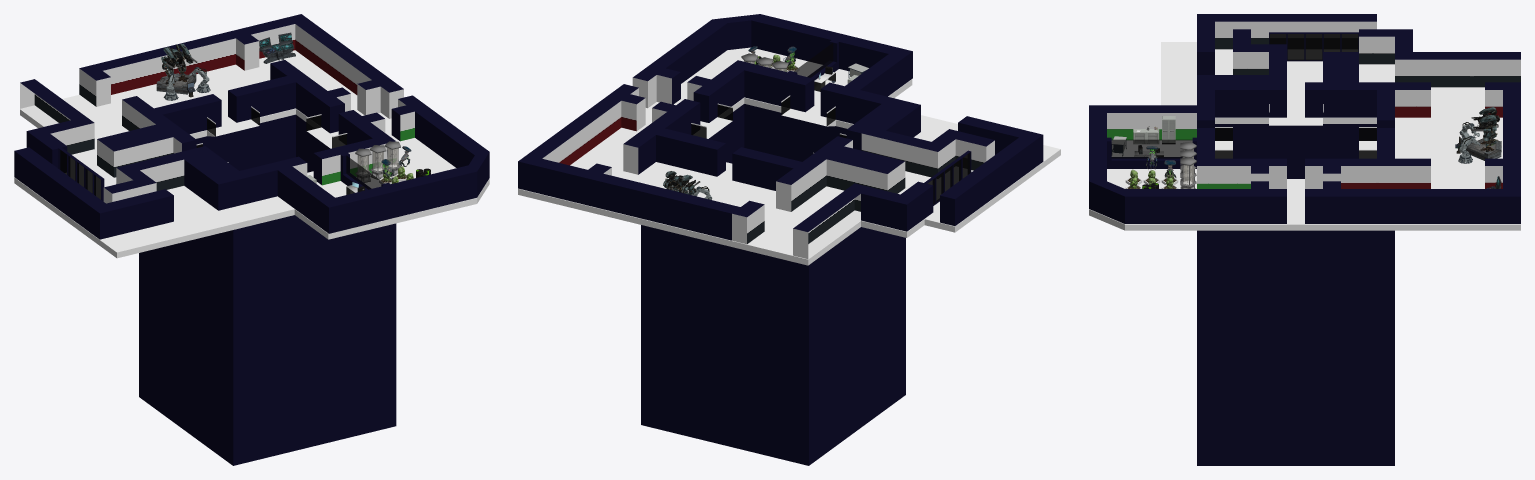
File: level4.glb
3 renders of one model, left to right at view 1: azimuth 30°, elevation 25°; view 2: azimuth 150°, elevation 25°; view 3: azimuth 270°, elevation 25°, orthographic. The views are drawn at different scales.
Parts seen in each view (by area): view 1: Cube.033, Floor, Cube.031, Cube.027, Cube.015, Cube.016, Cube.021, Cube.013, Cube.005, Cube.002, Cube.007, Cube.009 (+15 smaller); view 2: Cube.016, Cube.031, Floor, Cube.027, Cube.015, Cube.002, Cube.013, Cube.033, Cube.005, Cube.021, Cube.009, Cube.028 (+13 smaller); view 3: Cube.032, Floor, Cube.027, Cube.021, Cube.002, Cube.013, Cube.031, Cube.033, Cube.016, Cube.028, Cube.005, Cube.007 (+16 smaller).
Boxes of the visible parts, x1,y1,x2,y2 form: Cube.033: (224, 215, 396, 465); Floor: (14, 50, 489, 258); Cube.031: (147, 232, 224, 459); Cube.027: (320, 95, 489, 233); Cube.015: (94, 14, 309, 94); Cube.016: (139, 114, 295, 402); Cube.021: (295, 20, 403, 118); Cube.013: (97, 96, 196, 177); Cube.005: (14, 147, 114, 239); Cube.002: (20, 79, 94, 168); Cube.007: (176, 146, 247, 210); Cube.009: (103, 153, 184, 203); Cube.016: (641, 225, 817, 465); Cube.031: (817, 227, 896, 458); Floor: (518, 47, 1060, 265); Cube.027: (632, 14, 912, 108); Cube.015: (518, 155, 740, 240); Cube.002: (793, 181, 933, 258); Cube.013: (776, 136, 905, 211); Cube.033: (744, 104, 905, 400); Cube.005: (940, 131, 1043, 225); Cube.021: (527, 84, 645, 165); Cube.009: (877, 129, 994, 177); Cube.028: (623, 99, 700, 174); Cube.032: (1215, 230, 1376, 465); Floor: (1089, 42, 1520, 230); Cube.027: (1089, 105, 1286, 223); Cube.021: (1305, 181, 1502, 223); Cube.002: (1359, 29, 1520, 87); Cube.013: (1305, 52, 1430, 117); Cube.031: (1215, 124, 1376, 178); Cube.033: (1197, 230, 1214, 465); Cube.016: (1377, 230, 1394, 465); Cube.028: (1305, 158, 1430, 188); Cube.005: (1197, 14, 1376, 49); Cube.007: (1197, 75, 1286, 117).
Size of the model in its own units: 24 by 19.16 by 24.
Materials: 54 (34 with a texture image).
